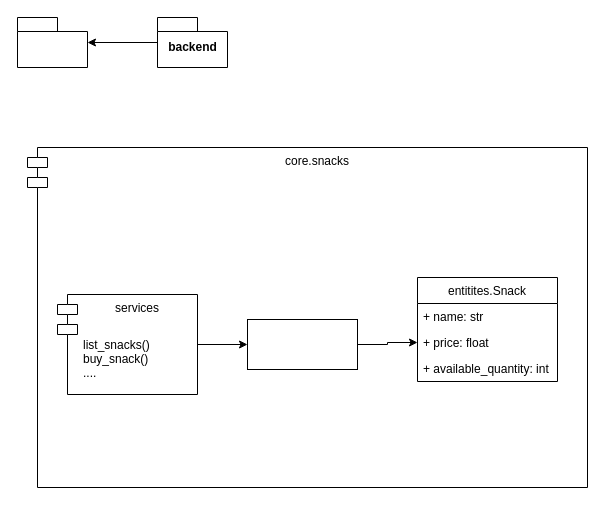
Some shapes in this 605 by 505 pixel diagram are drawn without their labels. Each missing label, with the centre of its shape:
"core" goes at pixel 52 42.
"«interface» SnackRepository" goes at pixel 302 344.
